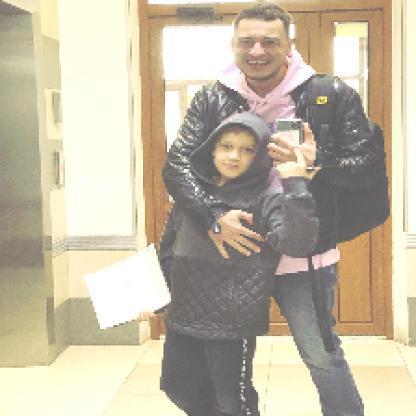child: (137, 111, 323, 416)
